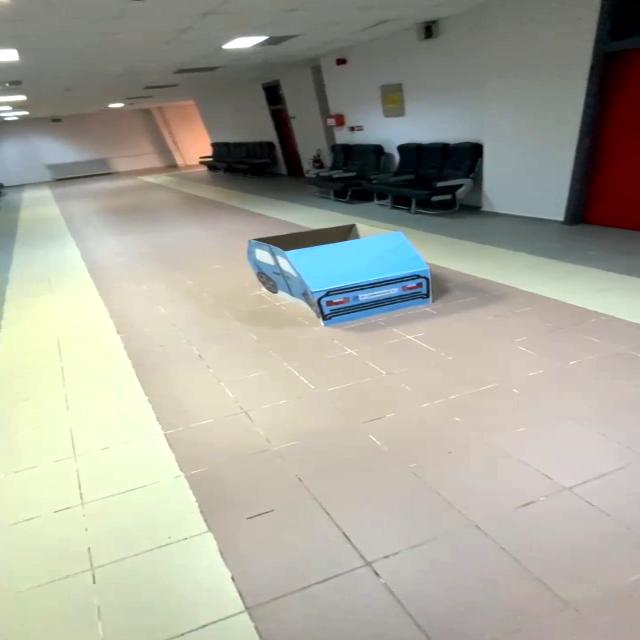blue_car: (225, 211, 446, 332)
